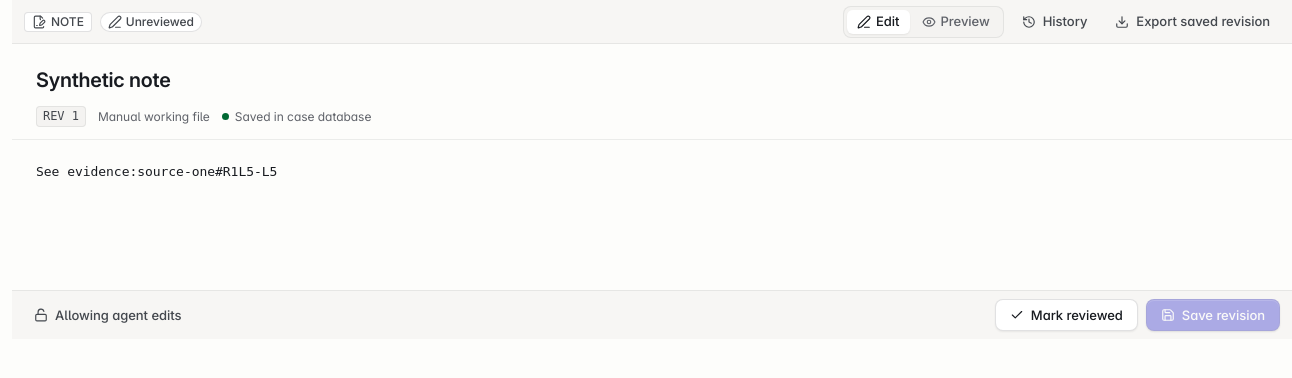
Test: opens a record preview citation and states that export uses saved text
Later steps or results of the test are not shown.
Expected: the text box named "Working file content" is shown, [12, 140, 1291, 290]
Step 1. Click the button "Preview" → (956,22), box [912, 10, 1000, 34]
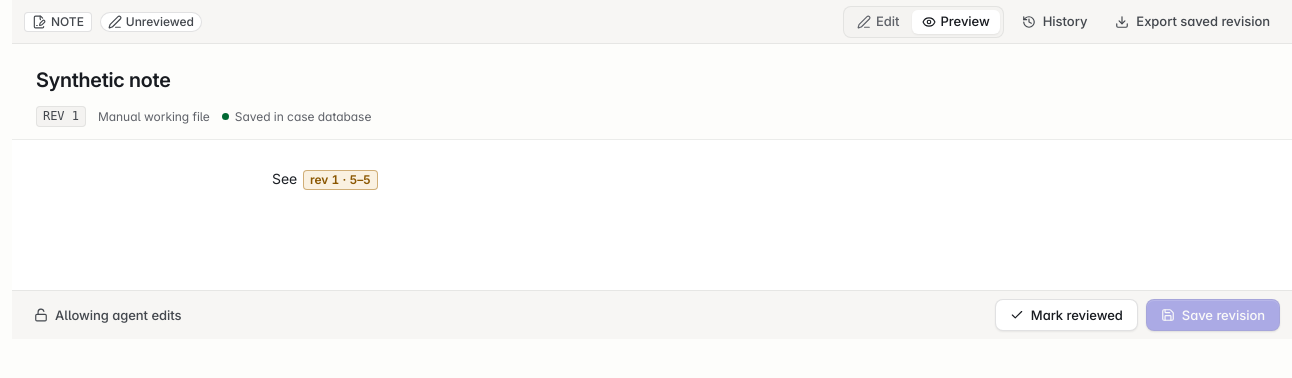
Step 2. Click the button titled "evidence:source-one#R1L5-L5" → (340,180), box [303, 170, 378, 190]
Step 3. Click the button "Edit" → (878,22), box [847, 10, 910, 34]
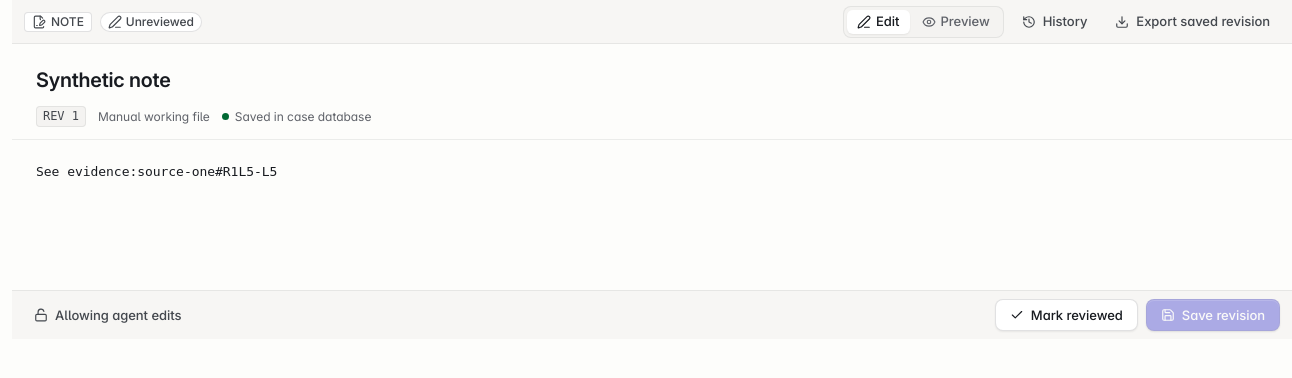
Step 4. Replace the text in the text box named "Working file content" with "Unsaved revision text" → (652,215), box [12, 140, 1291, 290]
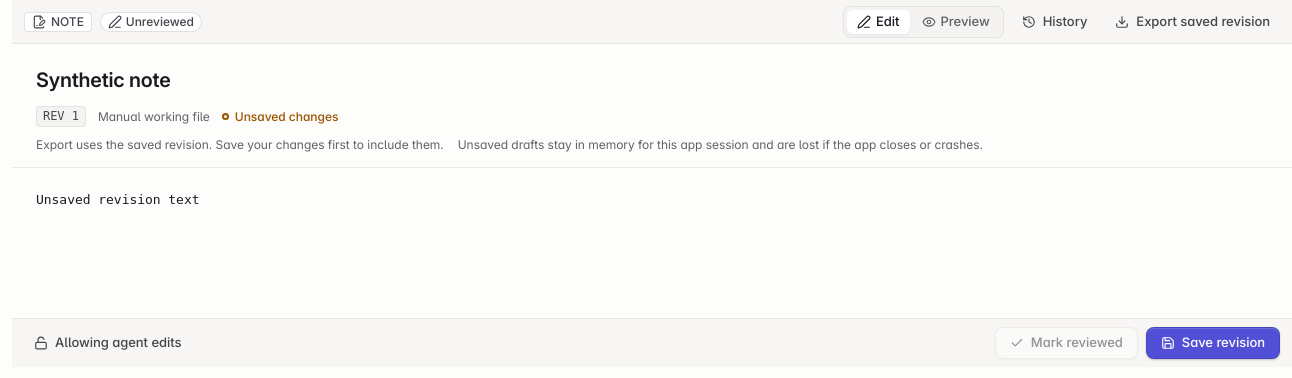
Now the text "Export uses the saved revision. Save your changes first to include them." is shown, box [36, 135, 444, 155]
